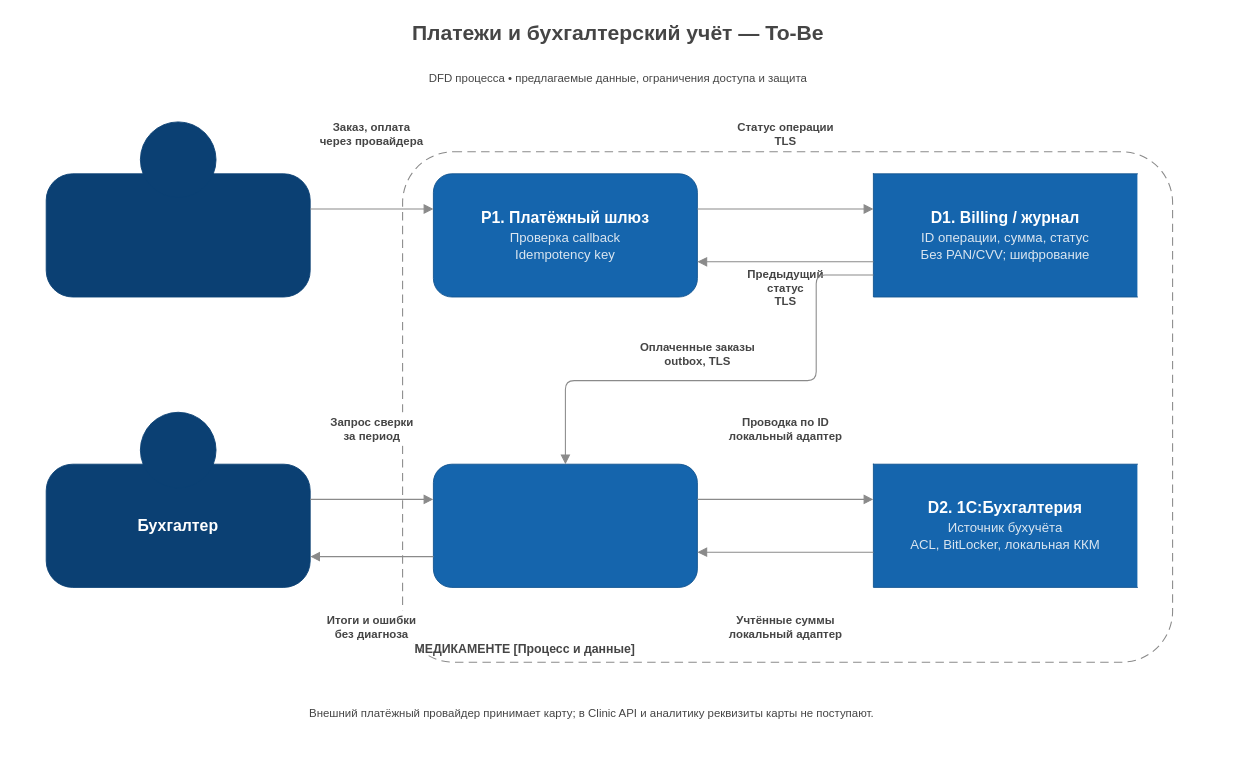
This 1236x760 diagram has some shape labels left out. The centre of each missing label's shape, as x and y in pixels:
P2. Адаптер 1С Сверка ID, сумм и валюты Повторы без новой оплаты: pixel 565 525
Пациент / кассир: pixel 177 235
